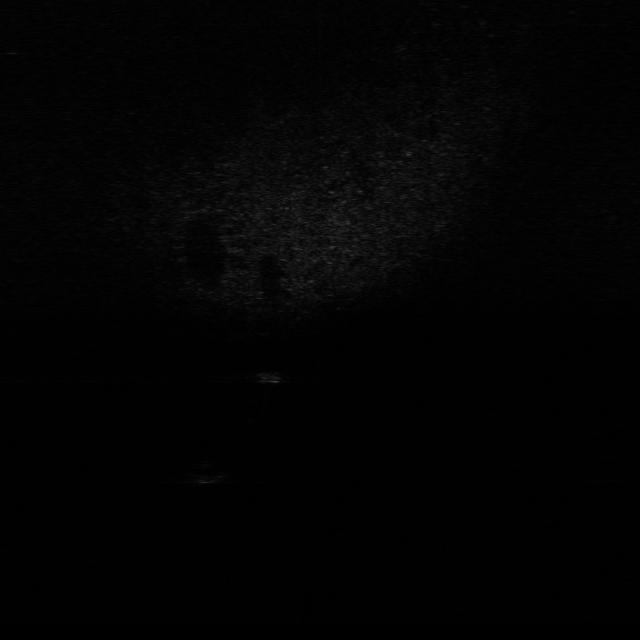ball: (179, 462, 232, 486)
cube: (257, 366, 291, 386)
